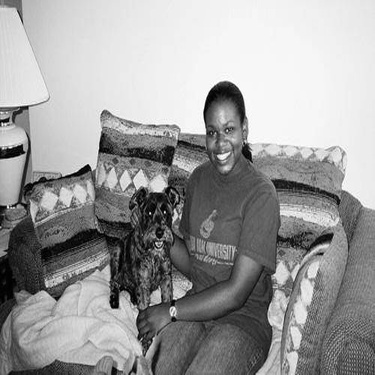dog: (104, 185, 182, 358)
